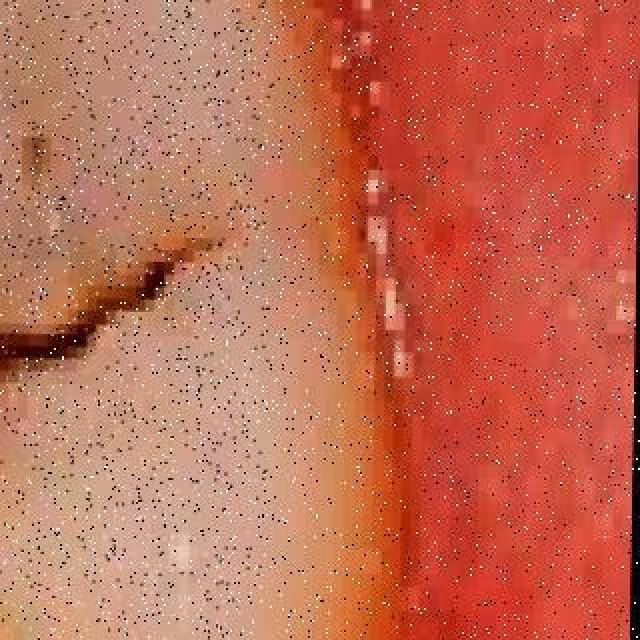cavities: (0, 0, 324, 638)
